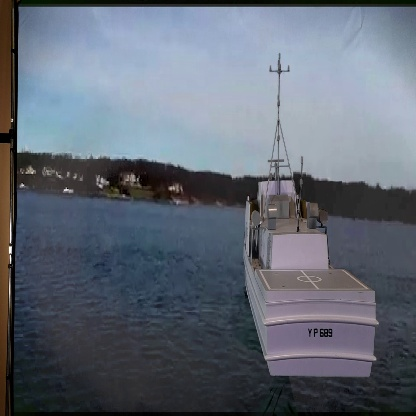YP689: (242, 53, 378, 381)
